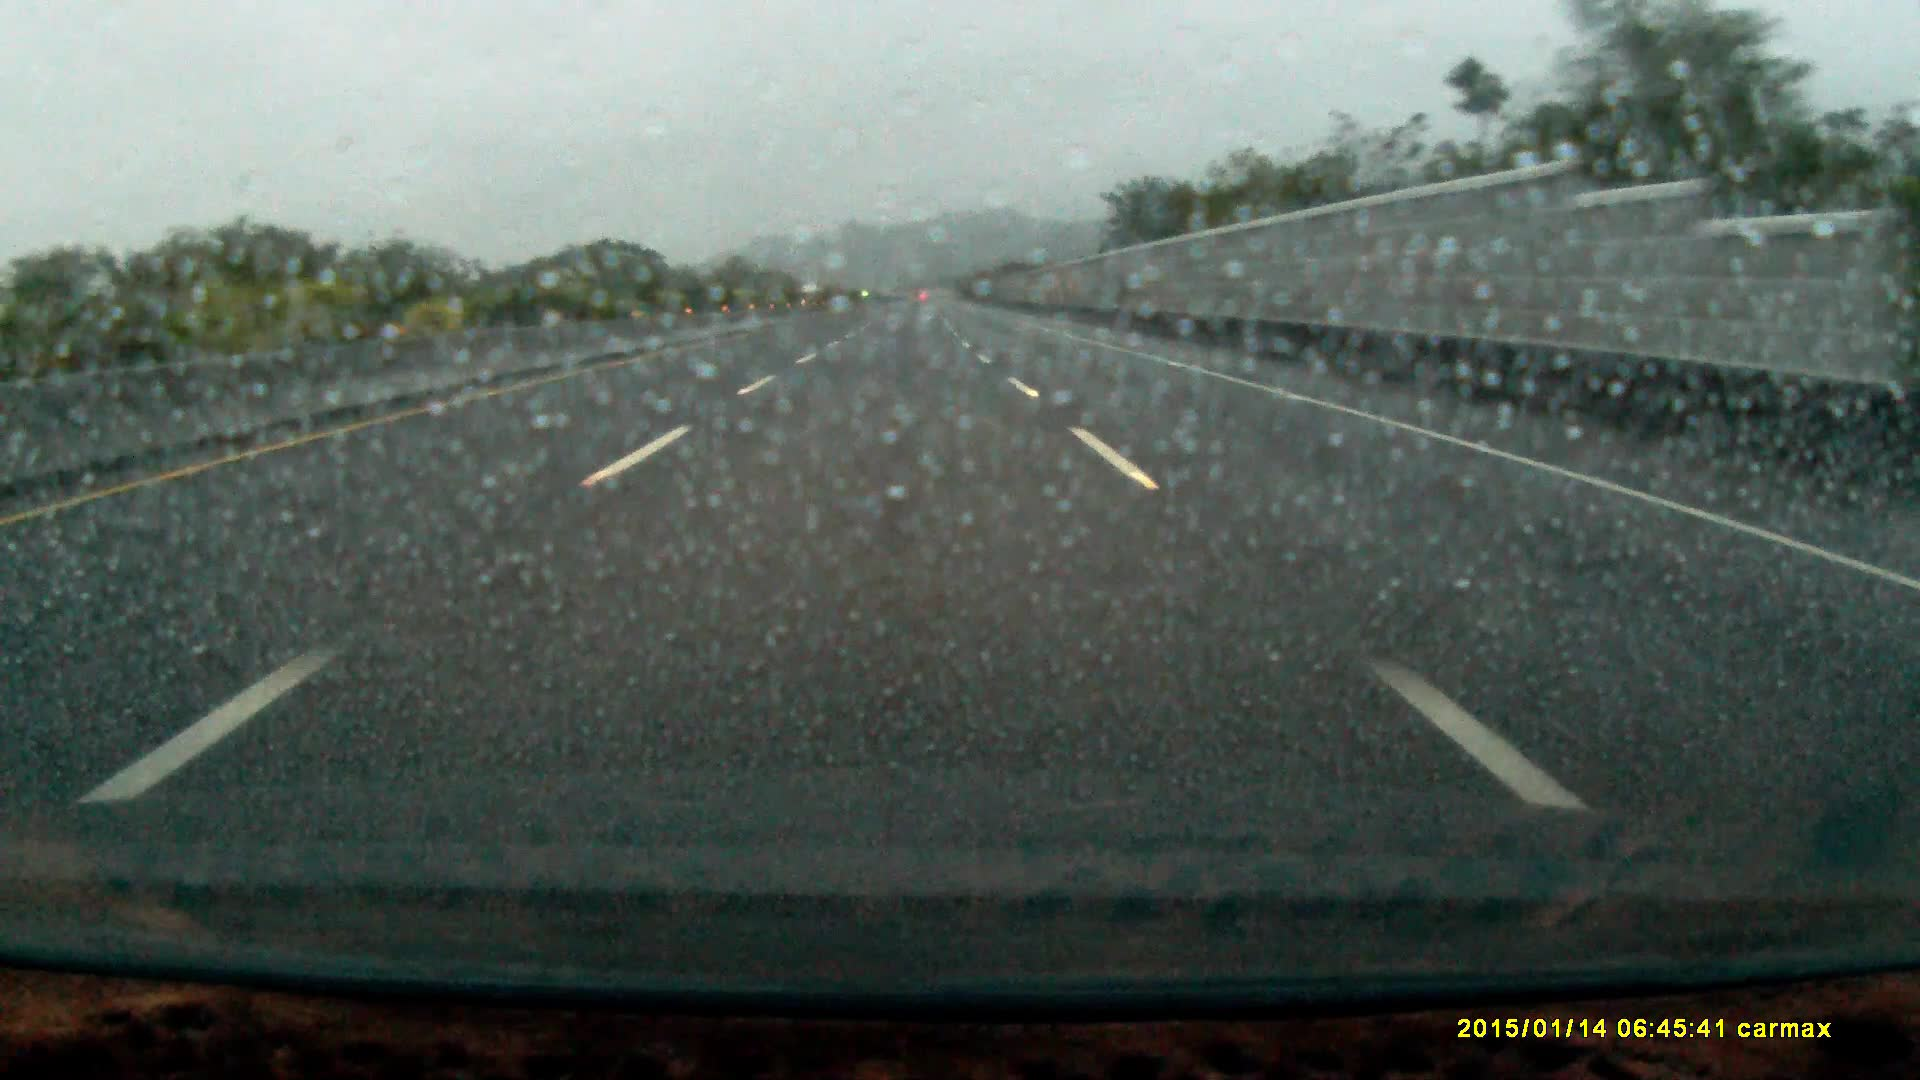vehicle: (800, 285, 823, 309)
